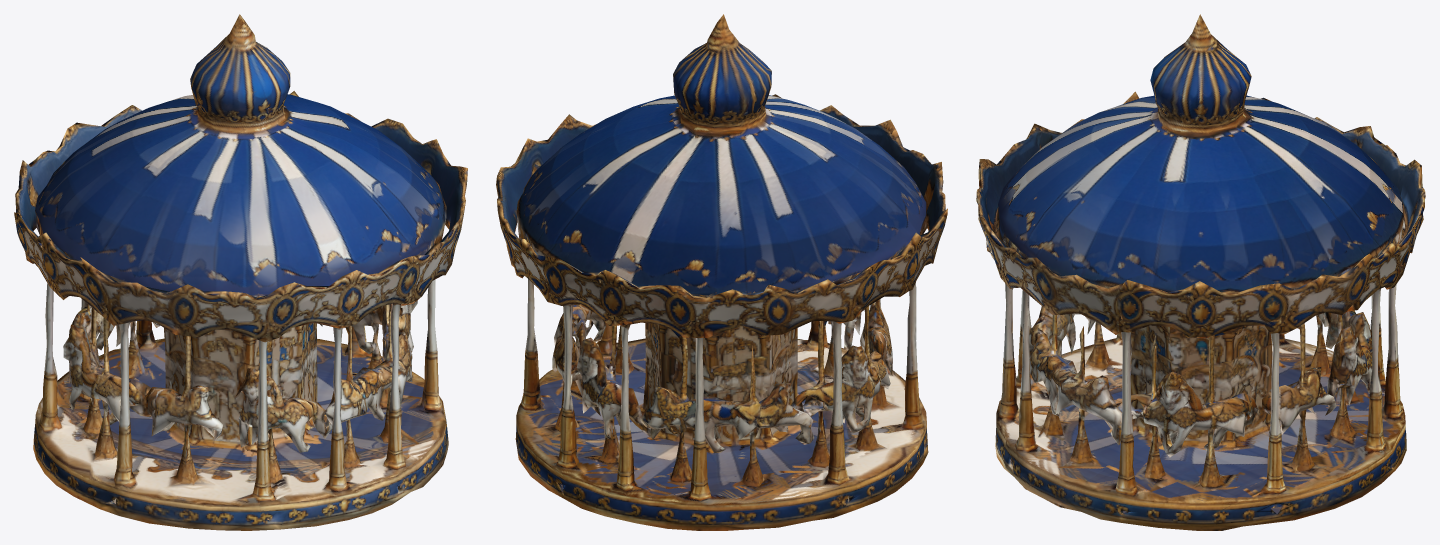
The model's file is 롯데_회전목마.glb.
3 views of the same model, side by side, from view 1: azimuth 30°, elevation 25°; view 2: azimuth 150°, elevation 25°; view 3: azimuth 270°, elevation 25° (orthographic).
Parts seen in each view (by area): view 1: texture_mapping; view 2: texture_mapping; view 3: texture_mapping.
Boxes of the visible parts, x1,y1,x2,y2 form: texture_mapping: [14, 14, 467, 530]; texture_mapping: [496, 14, 947, 530]; texture_mapping: [976, 14, 1425, 530].
Size of the model in its own units: 0.9385 by 0.9847 by 0.9328.
1 material, 1 textured.
